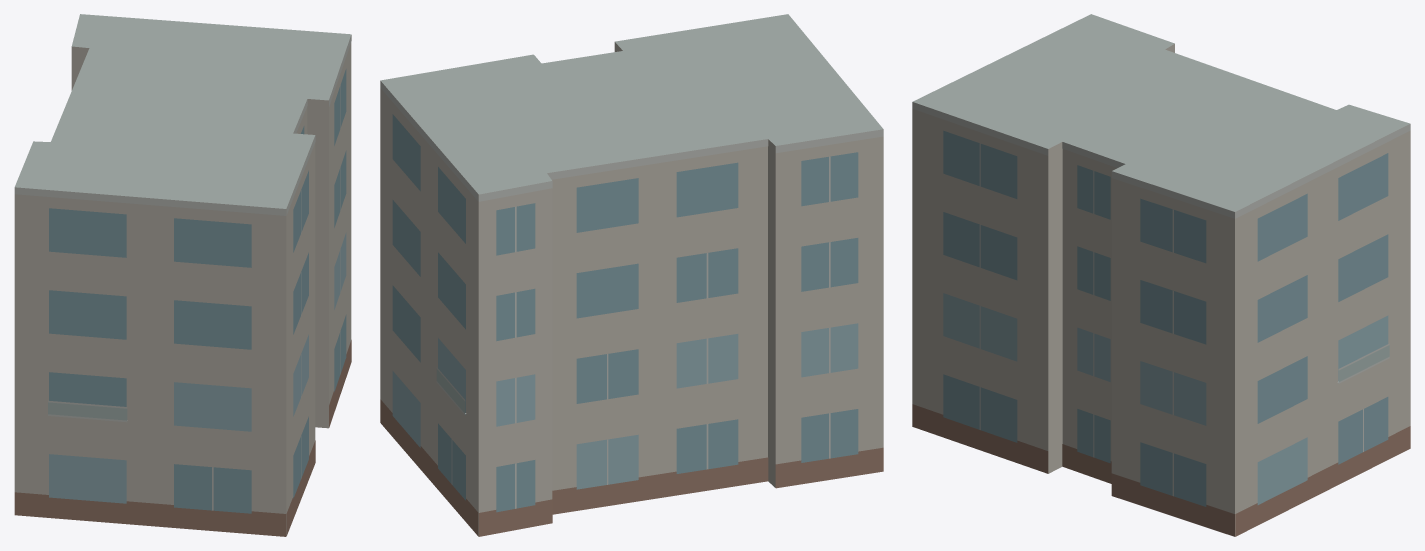
The model's file is survey-upis-32525288.glb.
3 views of the same model, side by side, from view 1: azimuth 30°, elevation 25°; view 2: azimuth 150°, elevation 25°; view 3: azimuth 270°, elevation 25° (orthographic). The views are drawn at different scales.
Visible parts, largest first — view 1: survey-upis-32525288.tmp; view 2: survey-upis-32525288.tmp; view 3: survey-upis-32525288.tmp.
Part boxes in pixels (x1,y1,x2,y2): survey-upis-32525288.tmp: (14, 14, 351, 536); survey-upis-32525288.tmp: (380, 14, 883, 536); survey-upis-32525288.tmp: (912, 14, 1410, 536).
Bounding box in the file's own units: 15.04 × 11.5 × 15.99.
